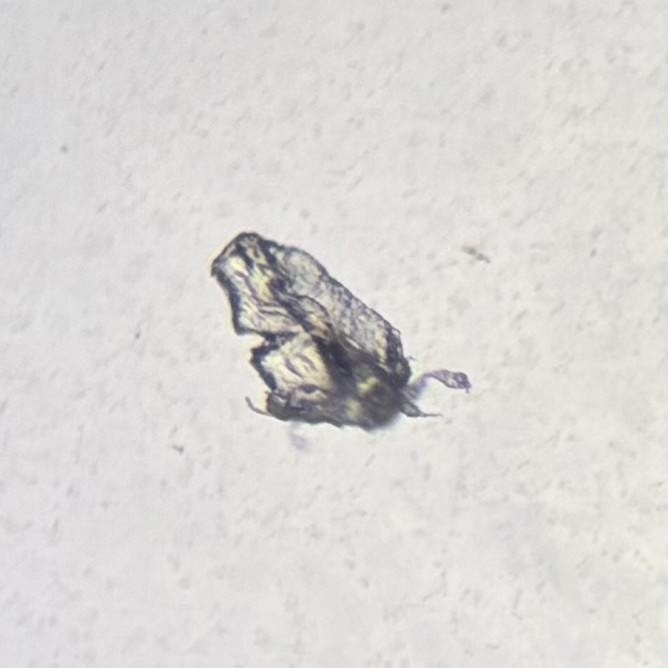microplastic: (210, 232, 473, 449)
